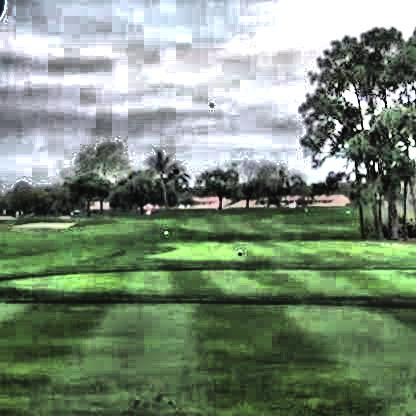golfball: (207, 100, 215, 108)
